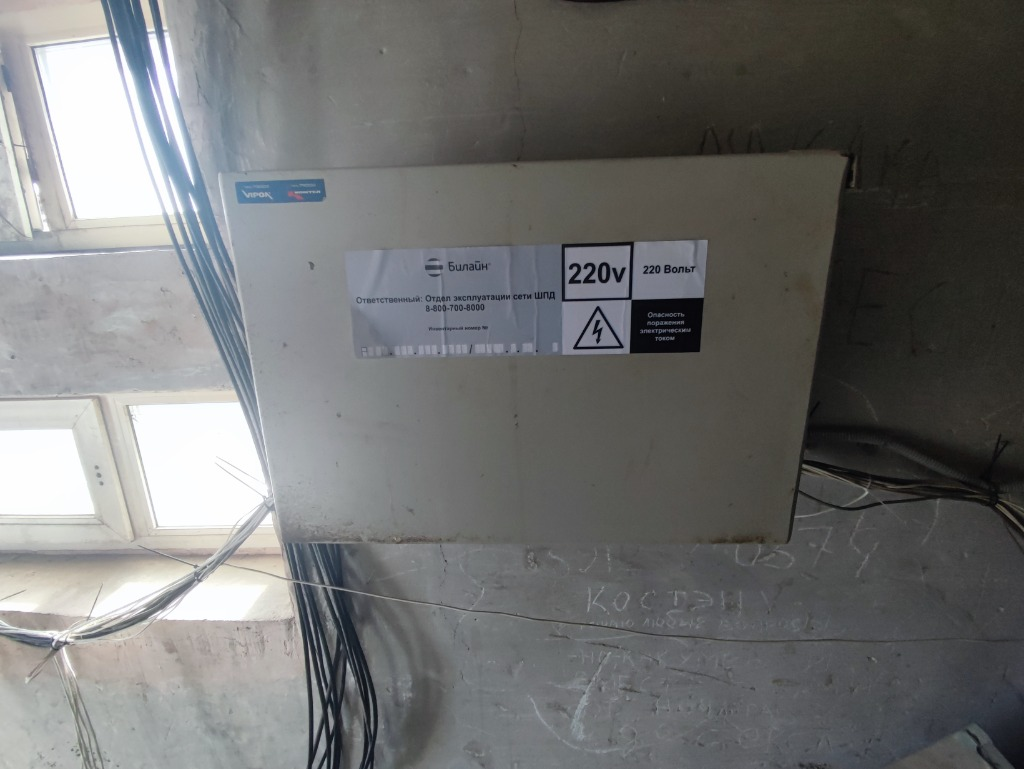sv-5: (211, 150, 853, 547)
